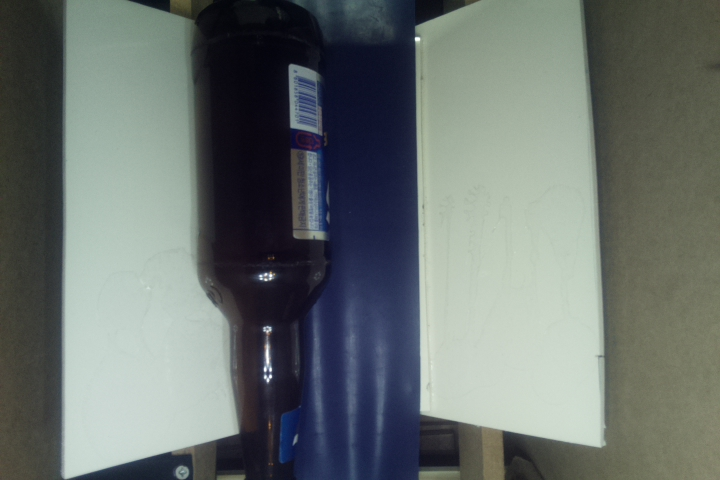makju: (192, 1, 334, 479)
